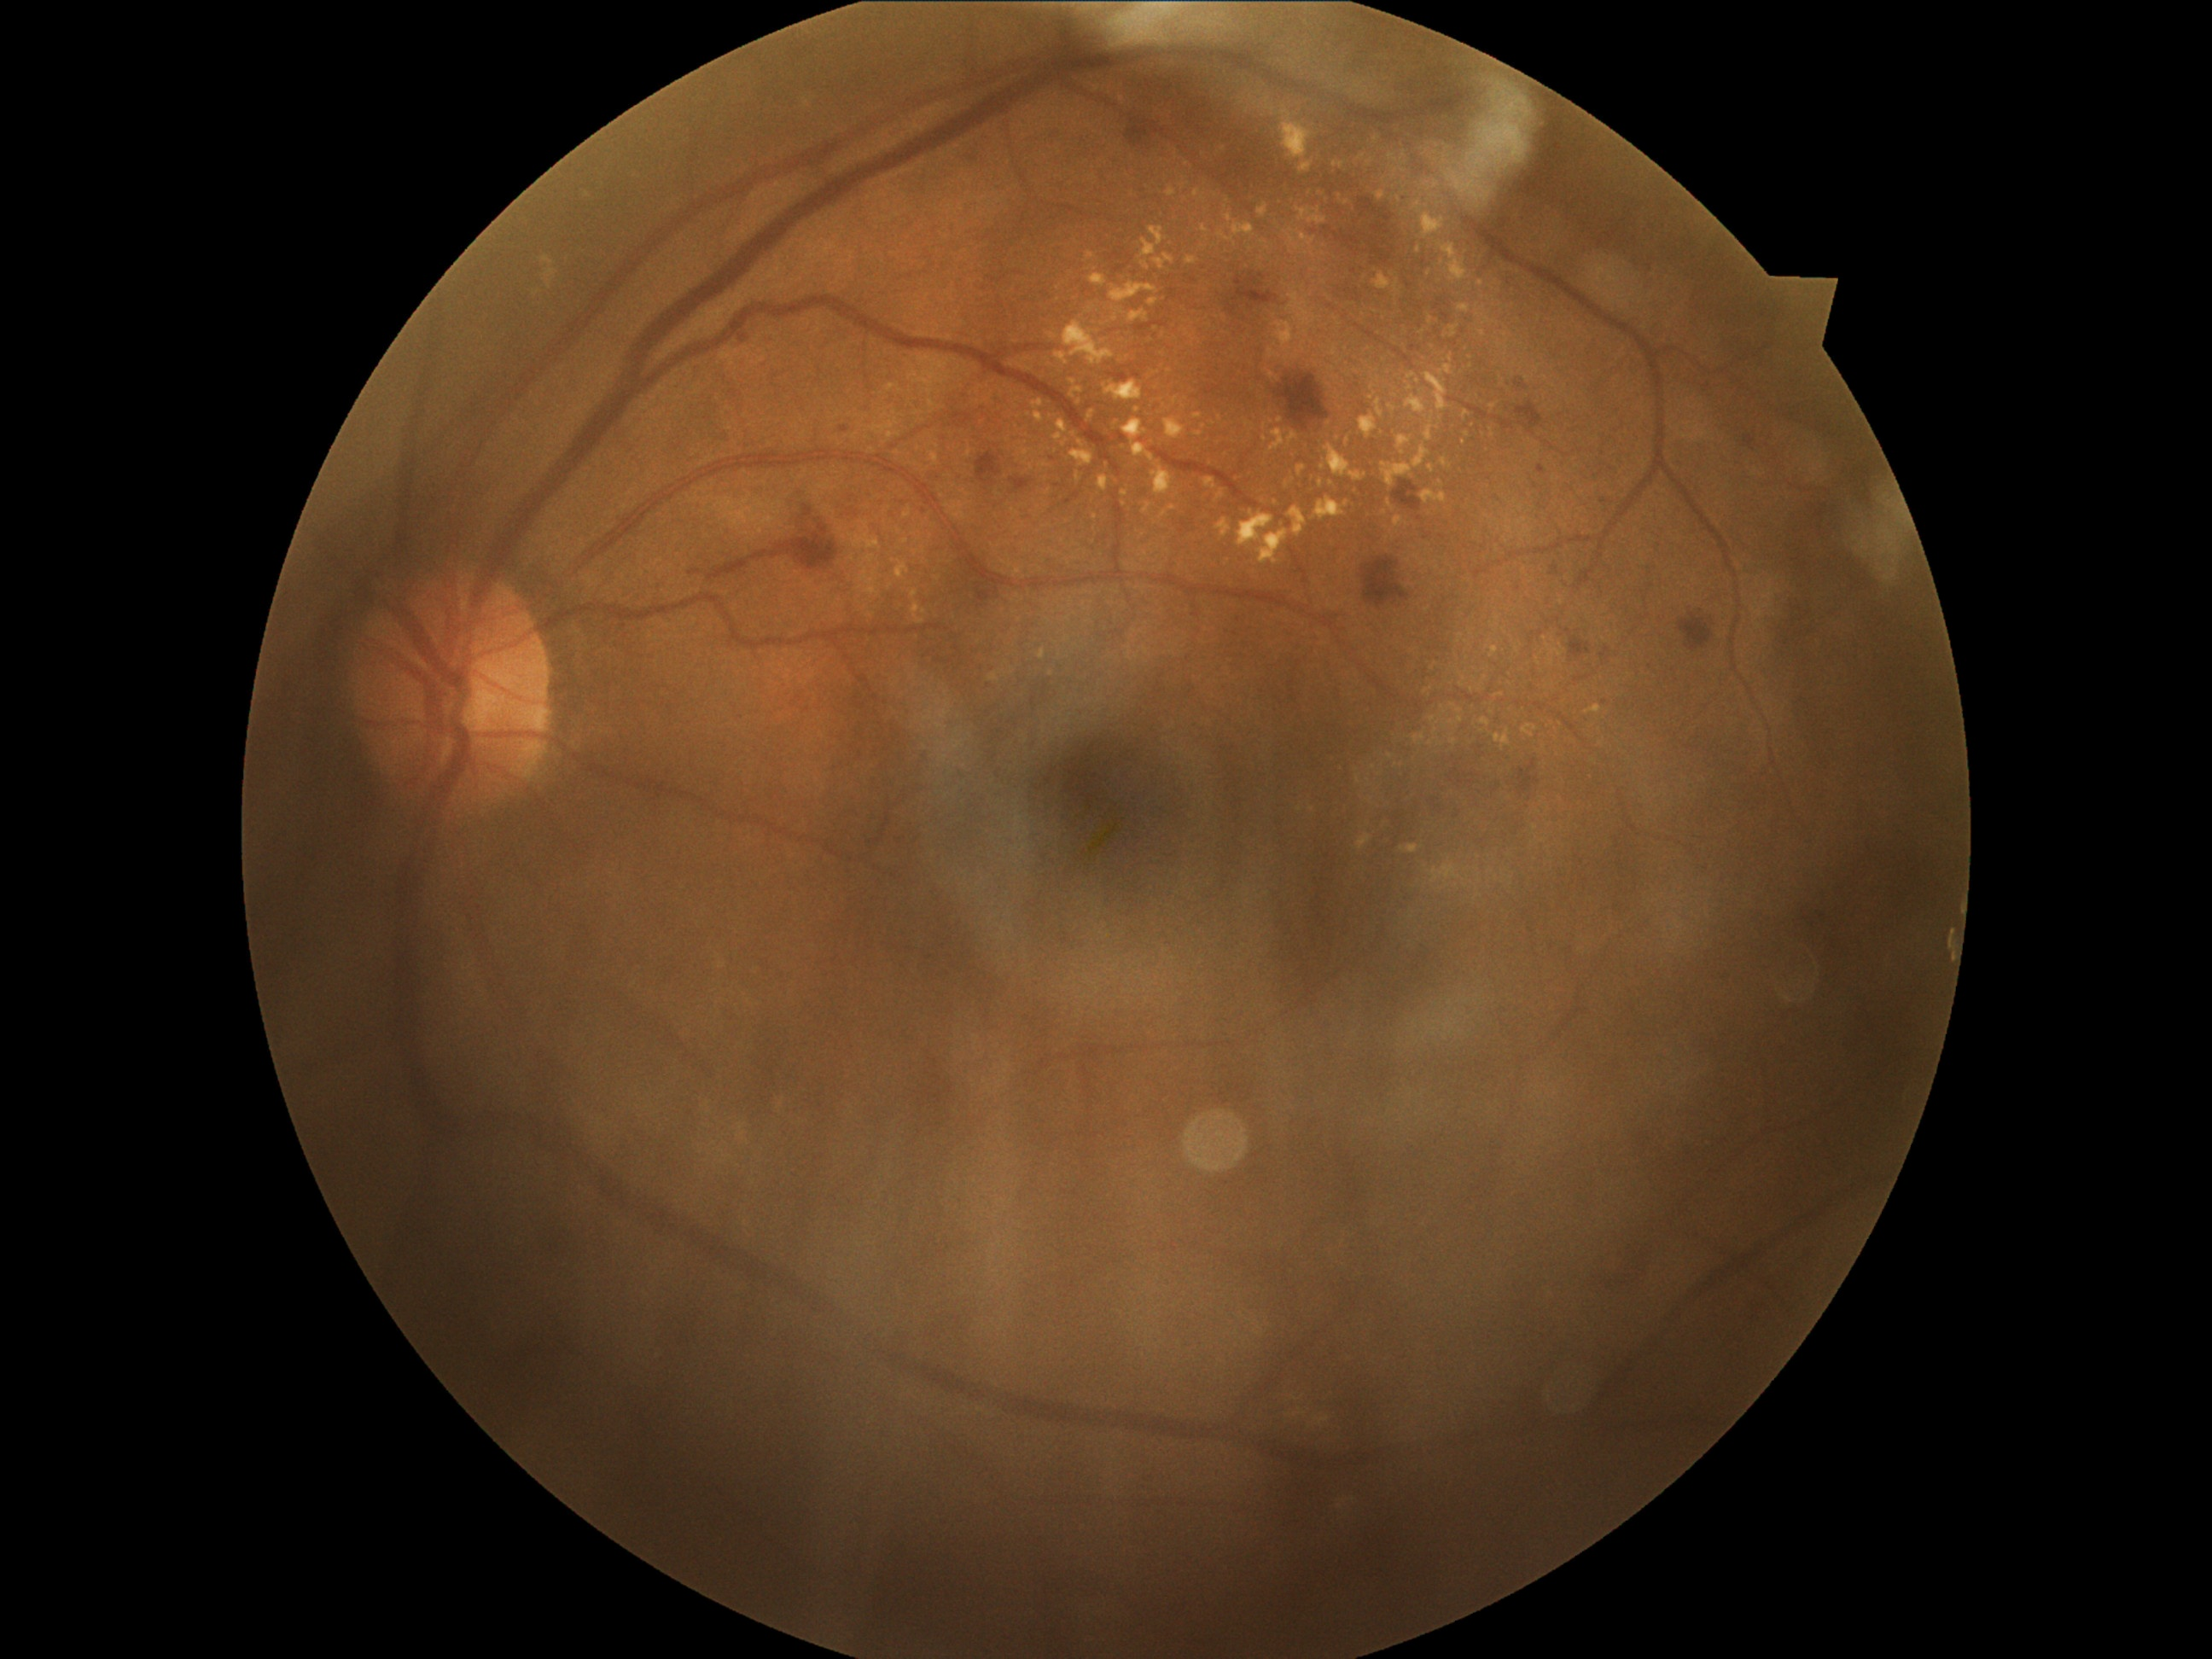Fovea: (995, 688, 1200, 913)
OD: (324, 554, 582, 835)
